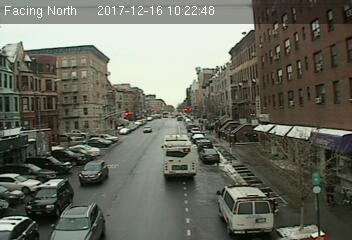bus: (161, 133, 197, 181)
car: (44, 203, 107, 240), (23, 178, 74, 220), (78, 159, 108, 184), (200, 148, 221, 164), (142, 126, 151, 133)
police: (215, 182, 275, 235)
